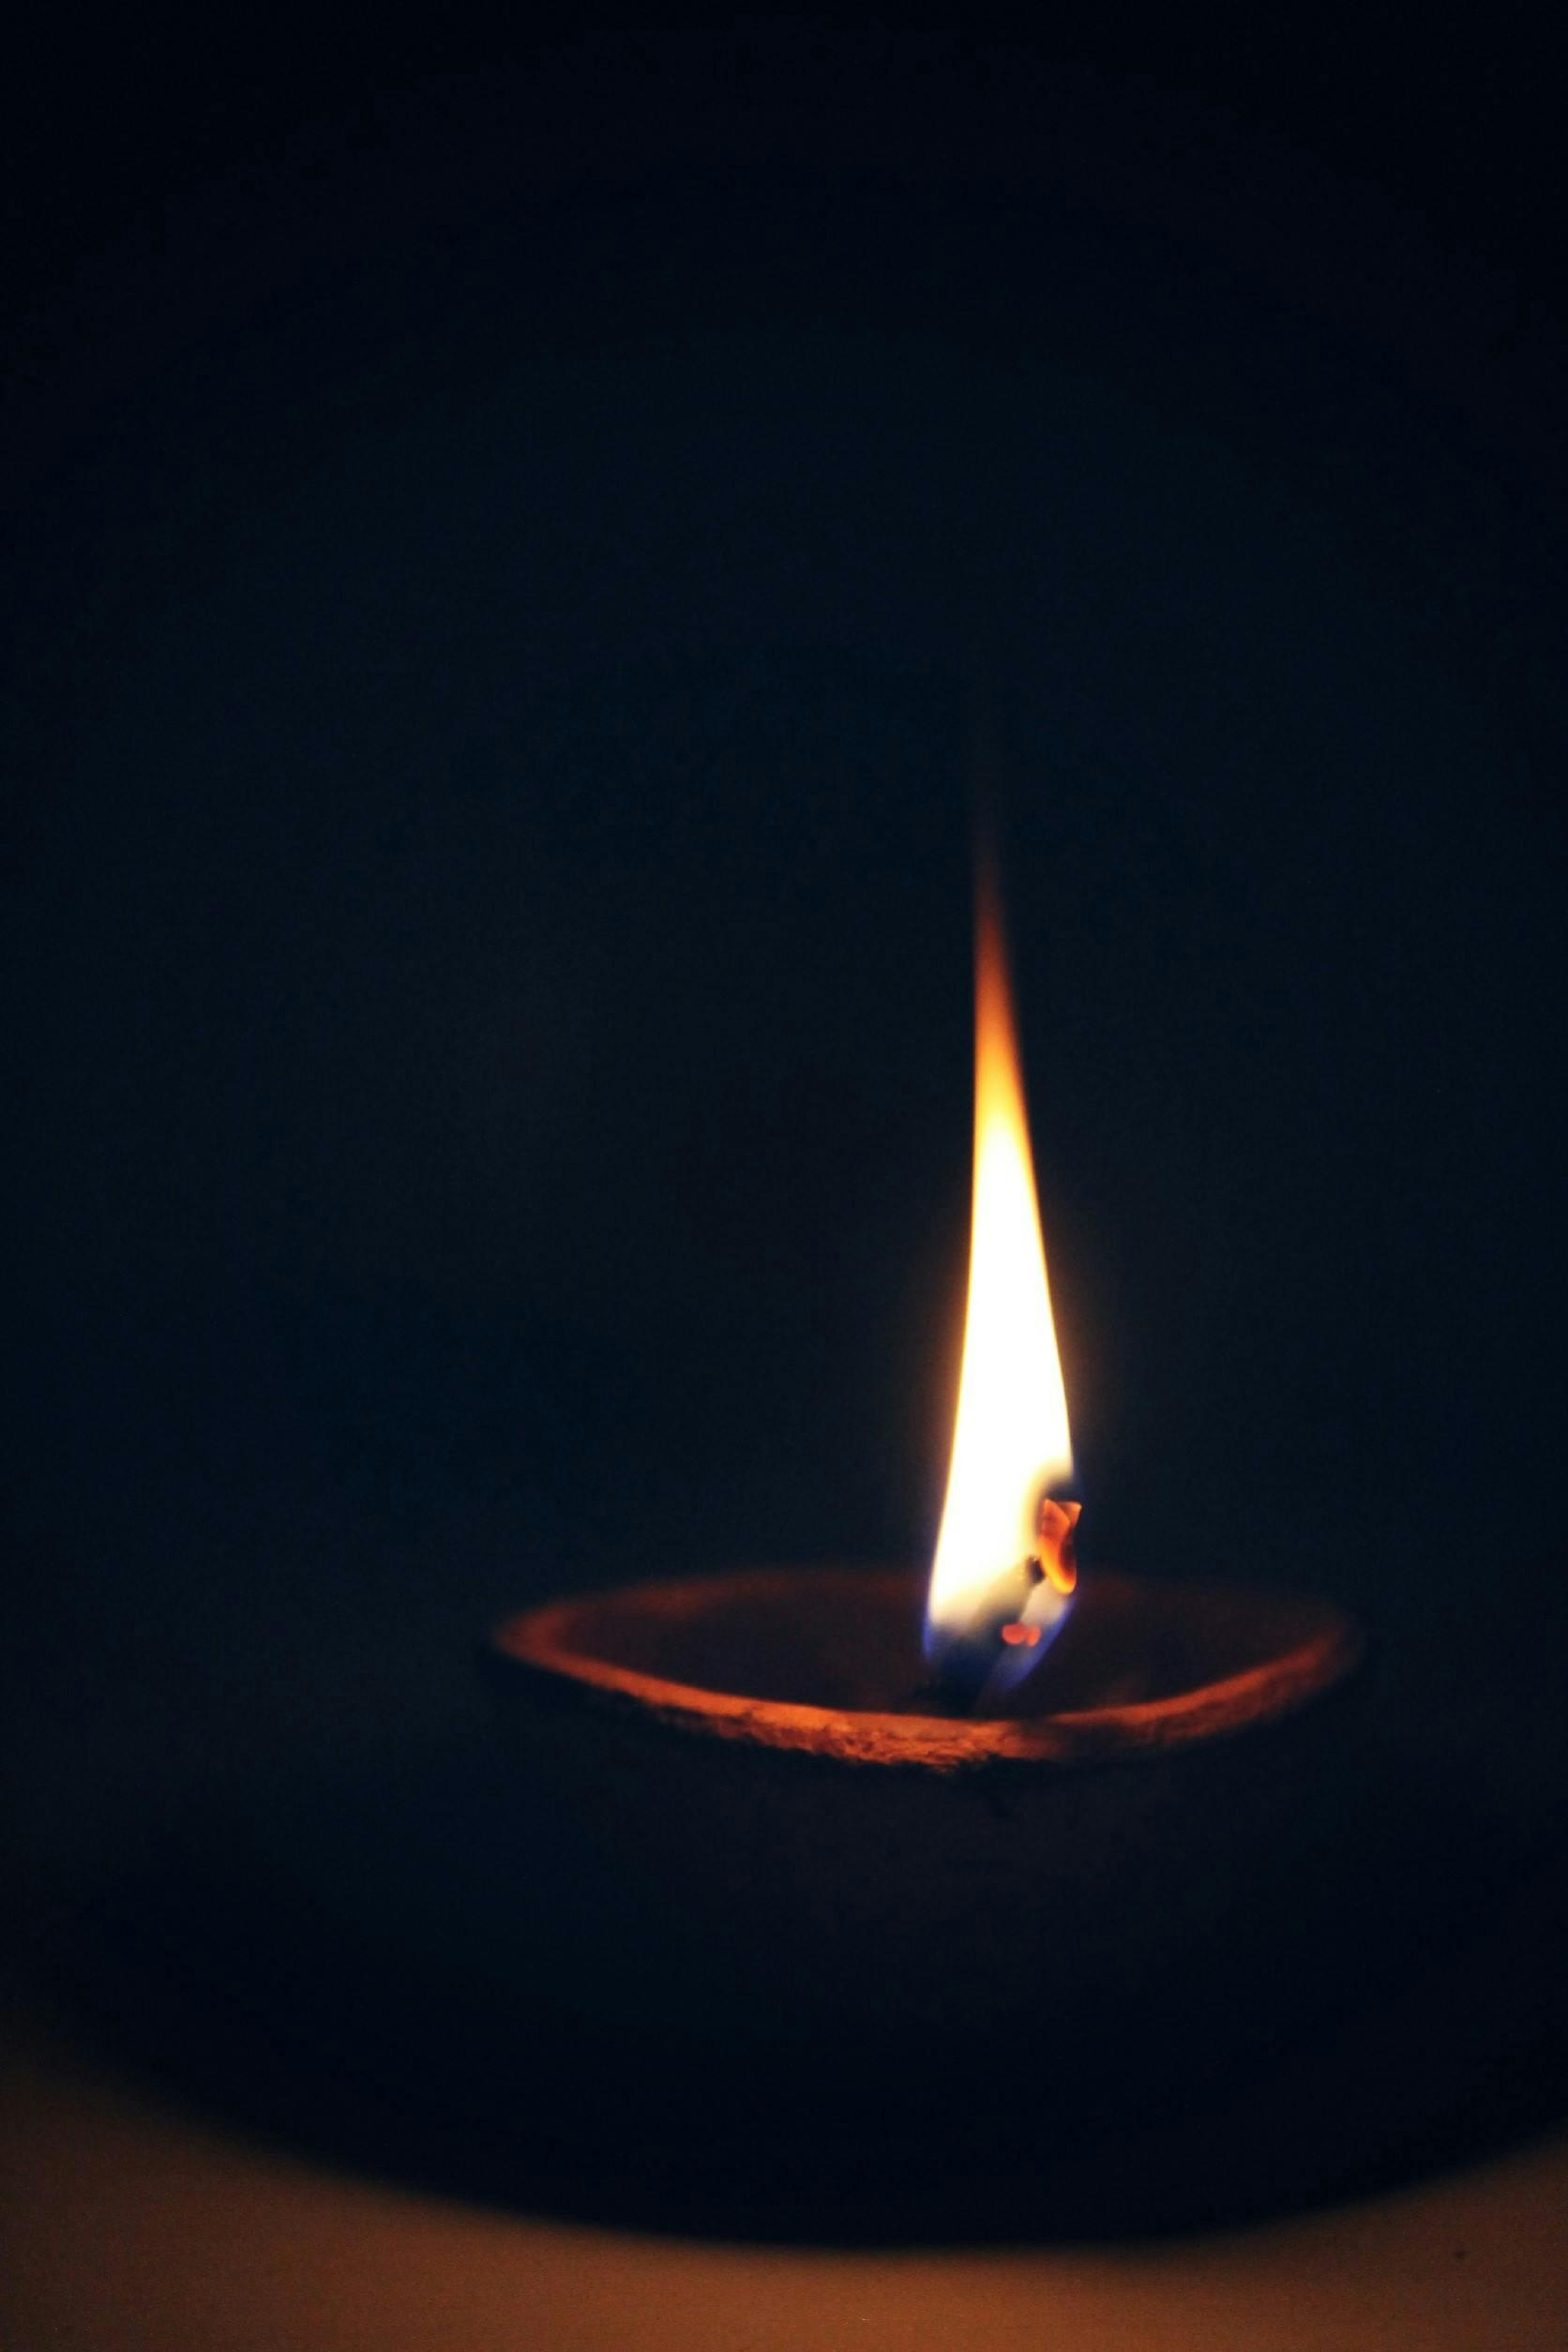Fire: (873, 765, 1109, 1696)
